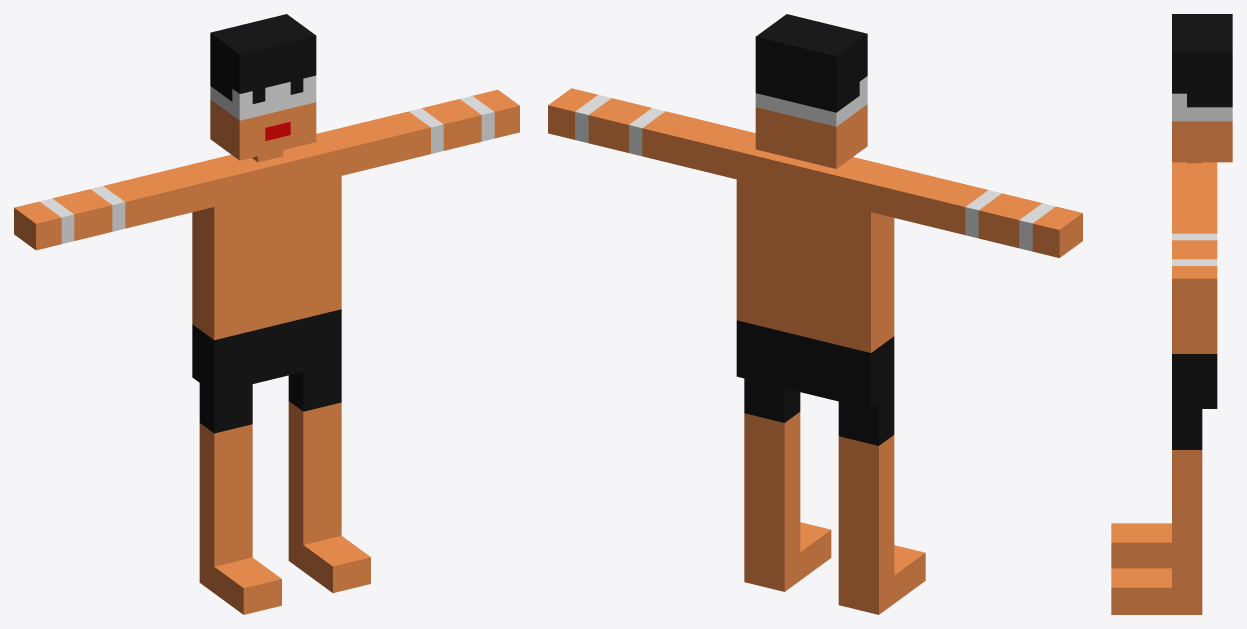
File: swim.obj
3 renders of one model, left to right at view 1: azimuth 30°, elevation 25°; view 2: azimuth 150°, elevation 25°; view 3: azimuth 270°, elevation 25°, orthographic. The views are drawn at different scales.
Size of the model in its own units: 38 by 40 by 8.
1 material, 1 textured.
